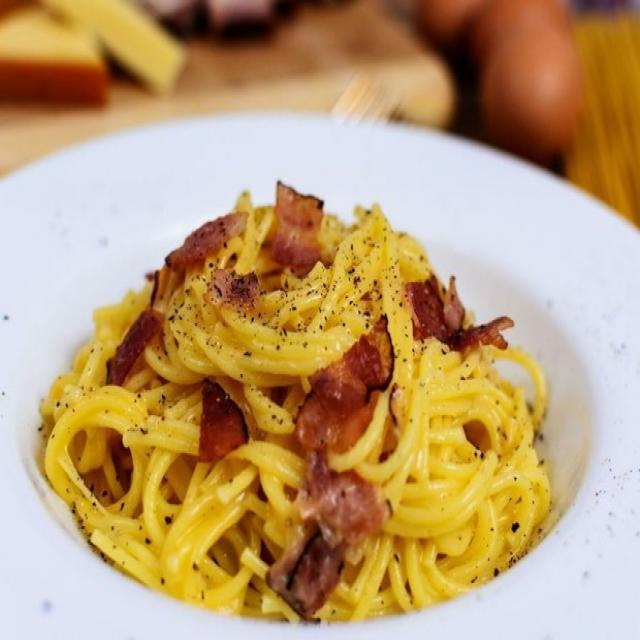Pasta with carbonara sauce: (34, 179, 606, 613)
